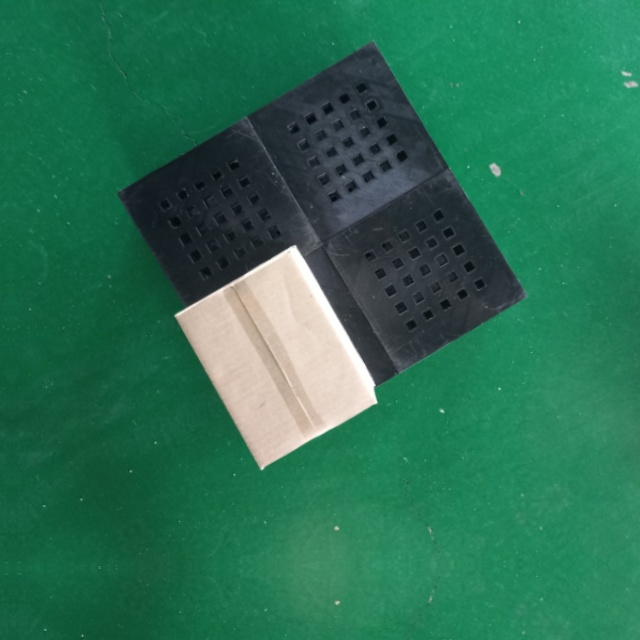box: (173, 241, 380, 474)
pallet: (107, 27, 534, 463)
